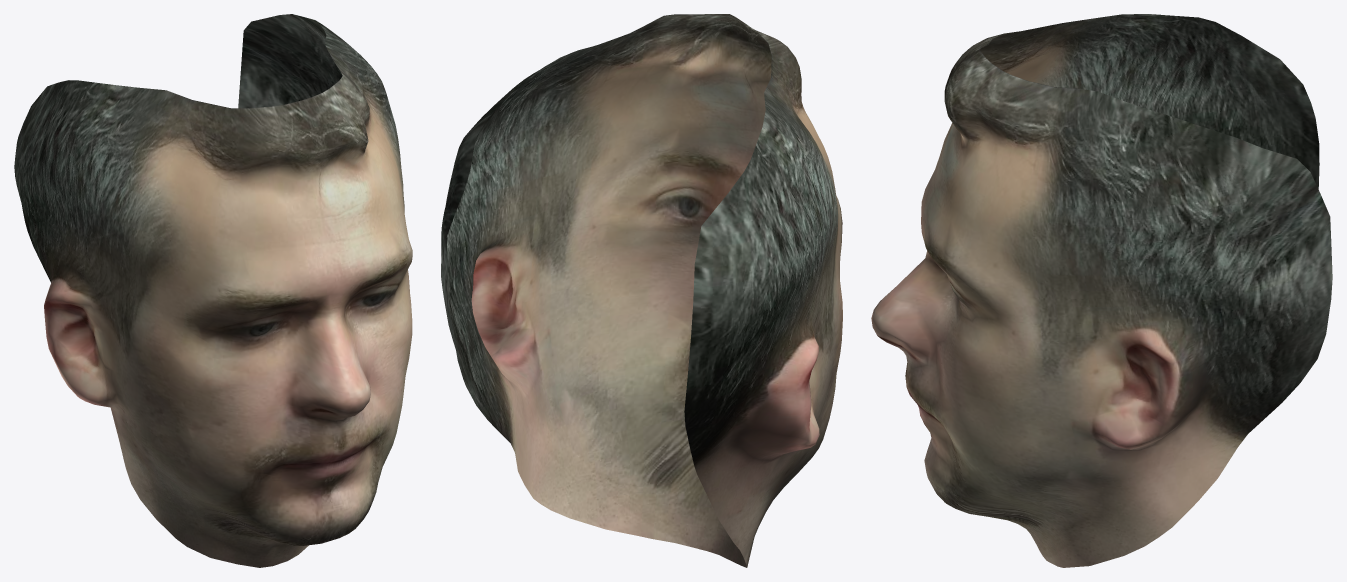
Rendered from headScanLow.glb.
3 renders of one model, left to right at view 1: azimuth 30°, elevation 25°; view 2: azimuth 150°, elevation 25°; view 3: azimuth 270°, elevation 25°, orthographic. The views are drawn at different scales.
Visible parts, largest first — view 1: Node; view 2: Node; view 3: Node.
Part boxes in pixels (x1=…): Node: x1=14, y1=14, x2=412, y2=567; Node: x1=441, y1=14, x2=842, y2=567; Node: x1=871, y1=14, x2=1332, y2=567.
Size of the model in its own units: 184 by 259 by 215.
Materials: 1 (1 with a texture image).
